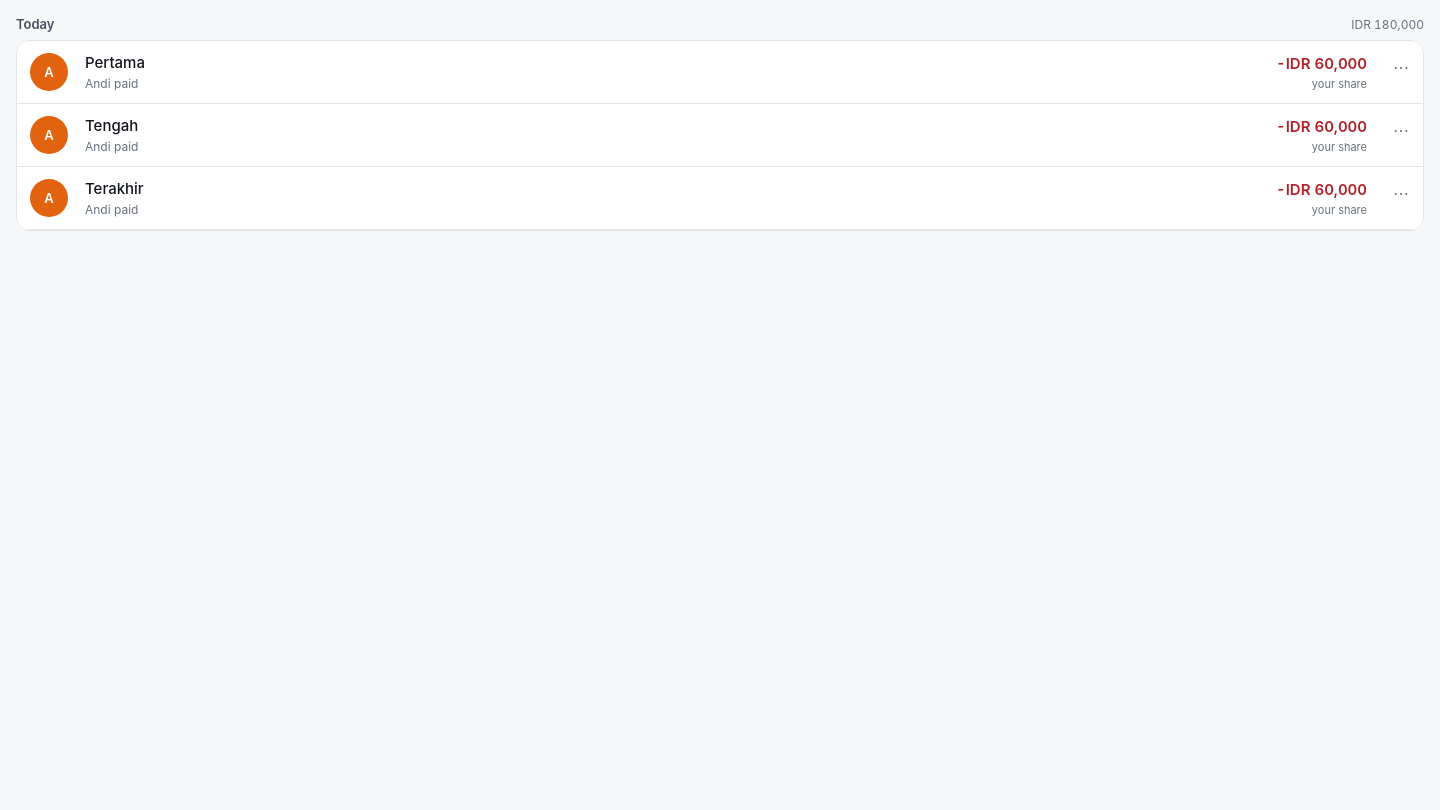
Test: TransactionList › opens action sheet for Pertama row
The width and height of the screenshot is (1440, 810).
Click the 1st button "⋯" at (1401, 67), box [1379, 45, 1423, 89]
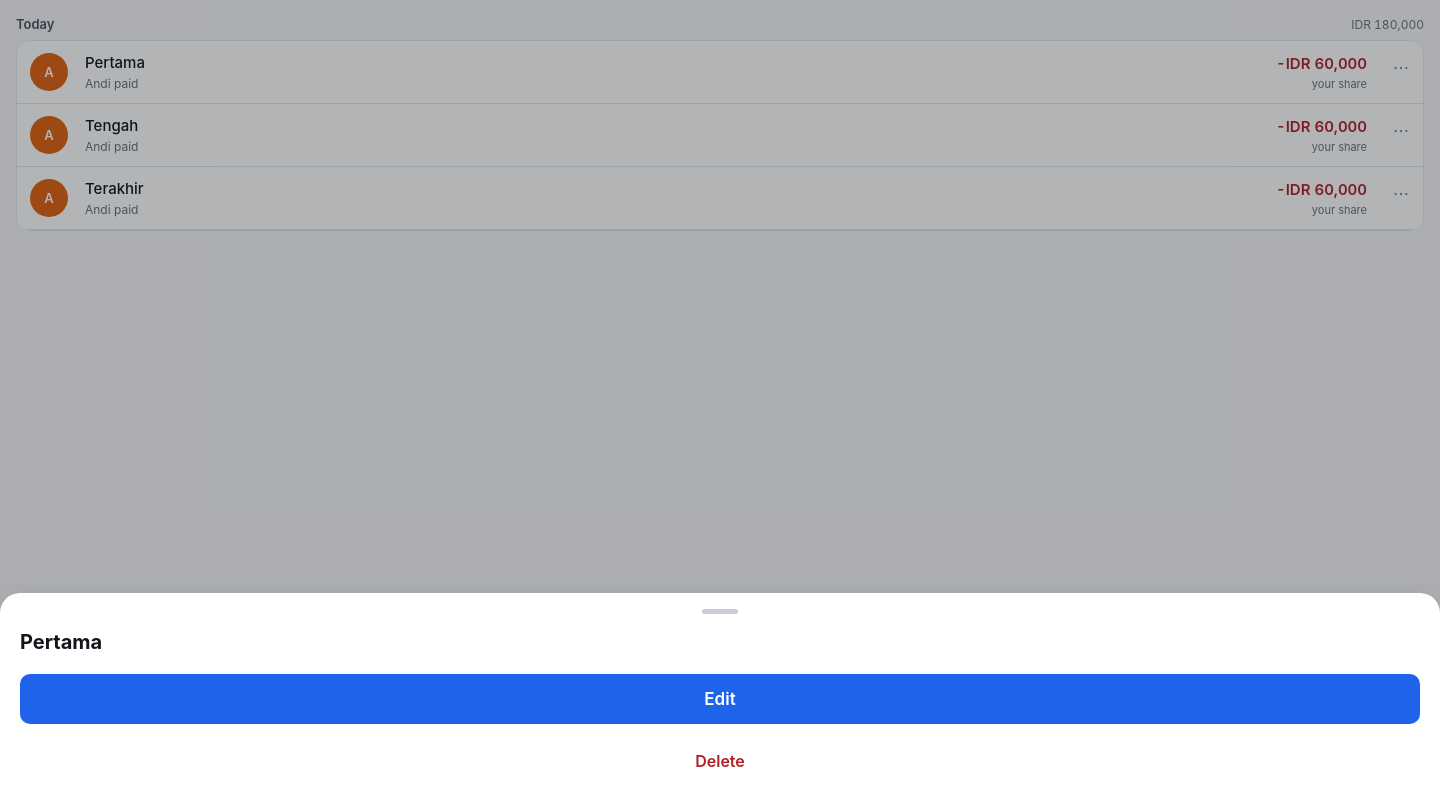
Check: the dialog "Pertama" is shown, box [0, 593, 1439, 809]
